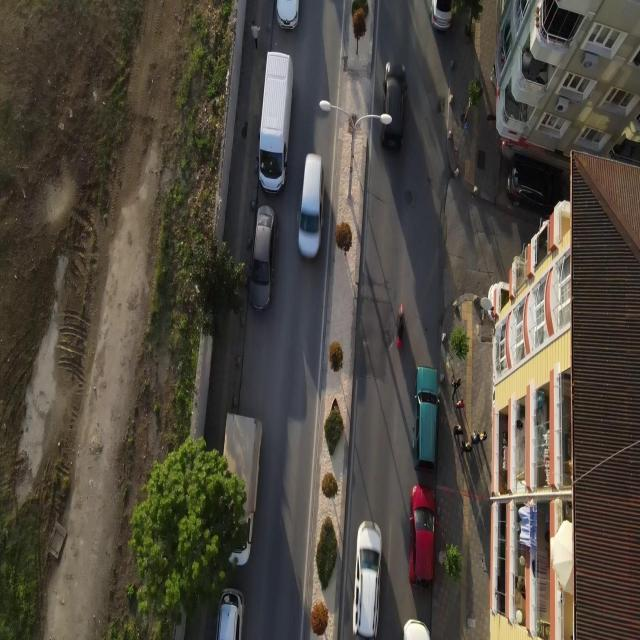p3rson: (250, 19, 261, 49), (451, 374, 462, 400), (460, 438, 472, 456), (452, 422, 464, 438), (470, 428, 480, 446), (454, 396, 465, 412), (477, 428, 487, 442)
